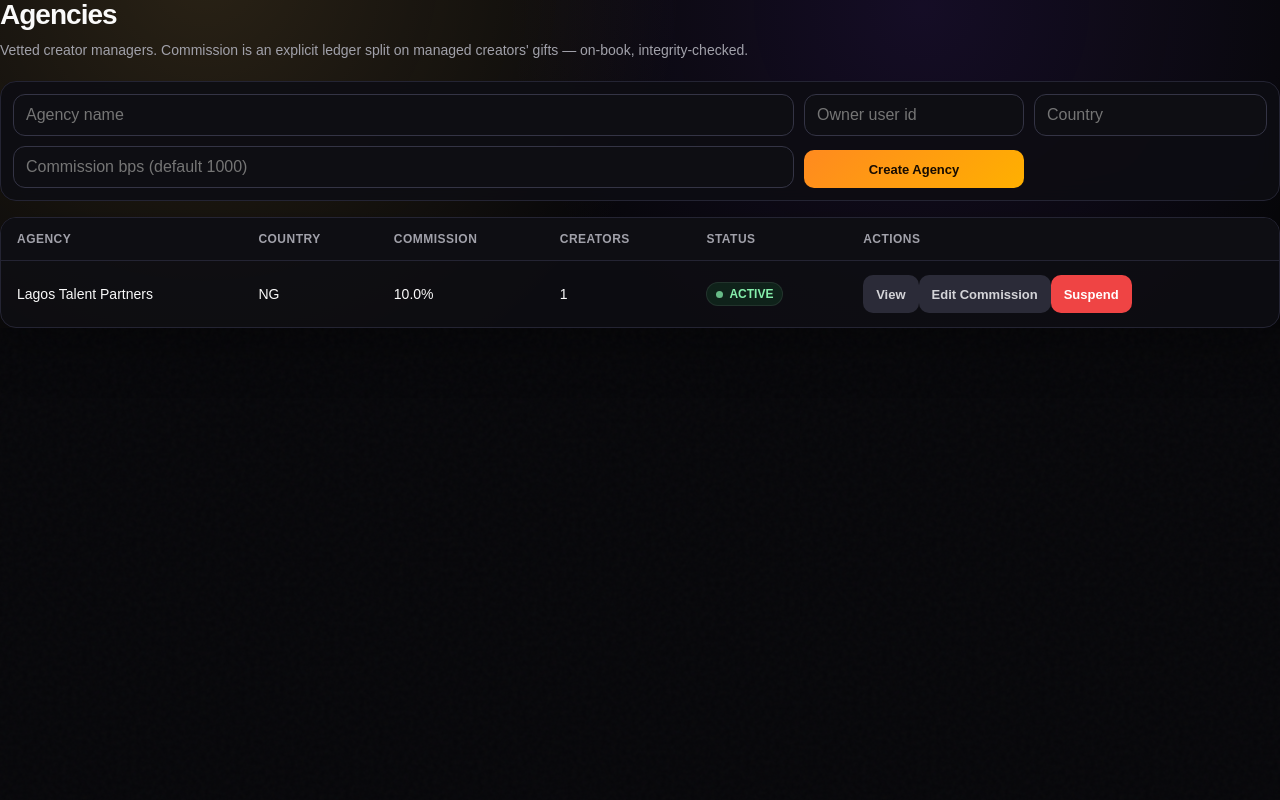
Test: AgenciesPage › detail with an empty roster explains, name falls back to the user id
The image size is (1280, 800).
Expected: the text "Lagos Talent Partners" is shown, [1,261,242,327]
What coordinates should you click on to do the following:
click the button "View"
I would click on:
 (891, 294)
Its box is [863,275,918,313].
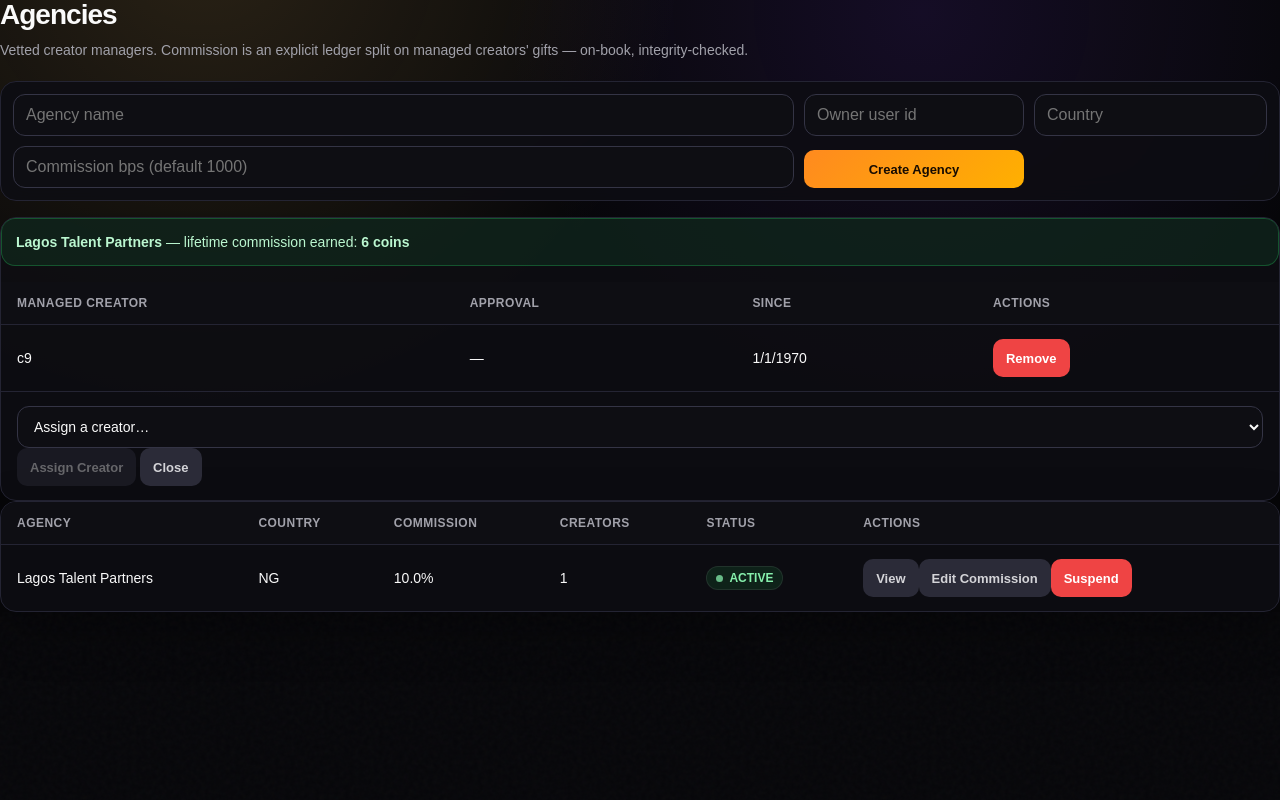
Expected: the text "c9" is shown, [1,325,454,392]
Expected: the text "—" is shown, [454,325,736,392]
